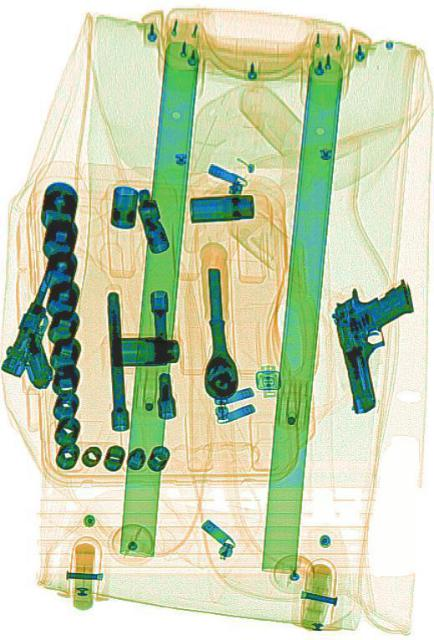Gun: (327, 268, 426, 417), (0, 252, 93, 401)
